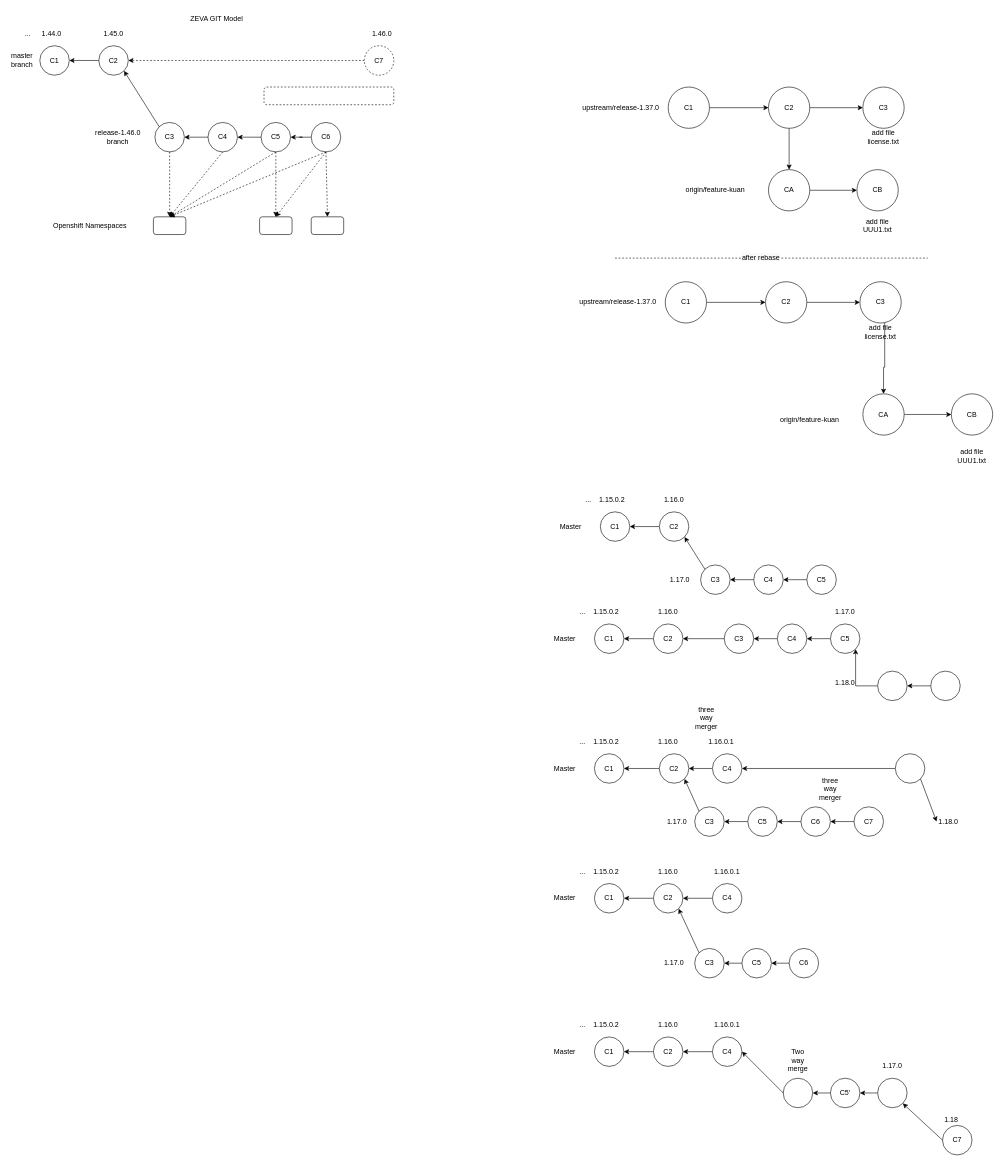
Image size: 1003x1165. Some labels were removed from this diagram. Here are the shapes that lost their labels. From the top down, the centre of each, then its label:
point (328, 95): PR#1248 release-1.46.0--> master: squash and merge
point (169, 225): Dev
point (275, 225): Test
point (327, 225): Prod
point (910, 768): C8
point (798, 1093): C3'
point (892, 1093): C6'
